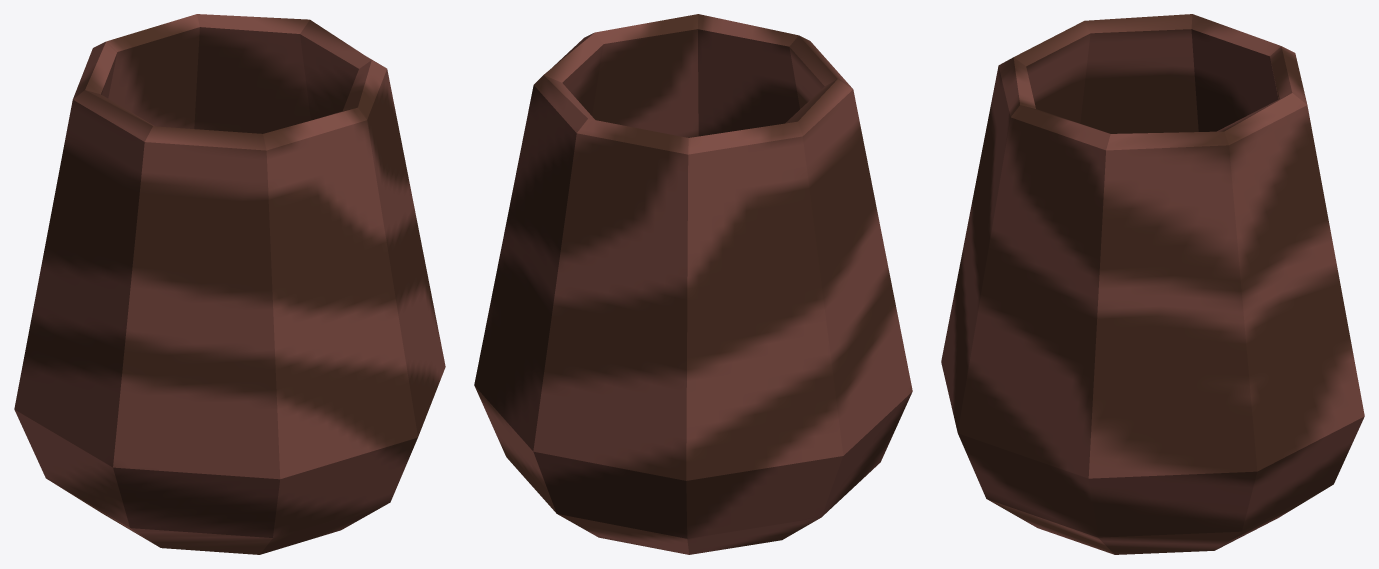
The model's file is SM_Prop_Champagne_Glass_01.fbx.
The picture shows the model from 3 angles, left to right: view 1: azimuth 30°, elevation 25°; view 2: azimuth 150°, elevation 25°; view 3: azimuth 270°, elevation 25°; orthographic projection.
Parts seen in each view (by area): view 1: SM_Prop_Champagne_Glass_01; view 2: SM_Prop_Champagne_Glass_01; view 3: SM_Prop_Champagne_Glass_01.
Part boxes in pixels (<box>): SM_Prop_Champagne_Glass_01: <box>14,14,445,554</box>; SM_Prop_Champagne_Glass_01: <box>474,14,912,554</box>; SM_Prop_Champagne_Glass_01: <box>941,14,1364,554</box>.
Size of the model in its own units: 14.83 by 16.5 by 14.83.
Materials: 1 (1 with a texture image).
